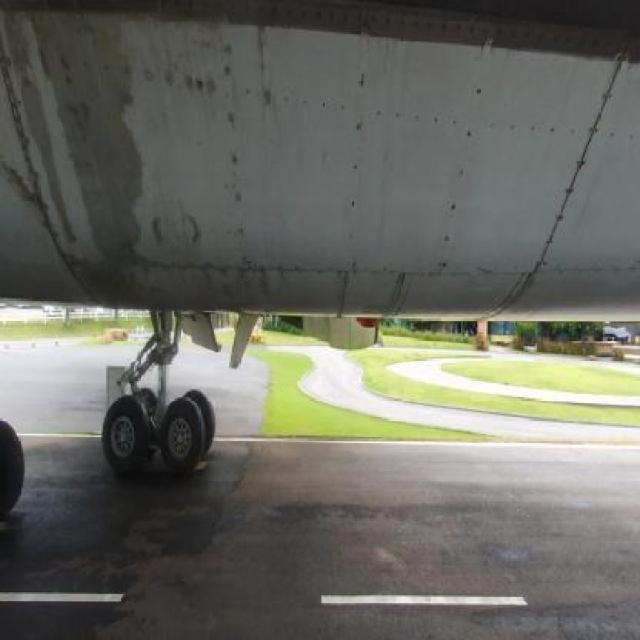Missing-Rivet: (436, 85, 484, 267), (295, 9, 496, 51), (205, 252, 398, 294), (220, 58, 257, 264), (536, 157, 592, 266), (487, 112, 635, 153), (240, 75, 346, 132), (340, 68, 372, 252), (498, 22, 627, 66), (370, 94, 468, 137), (592, 85, 623, 142)
Rust: (252, 17, 280, 78)
Scartch: (1, 5, 162, 312), (135, 202, 222, 269), (160, 55, 225, 97), (259, 82, 273, 107)
